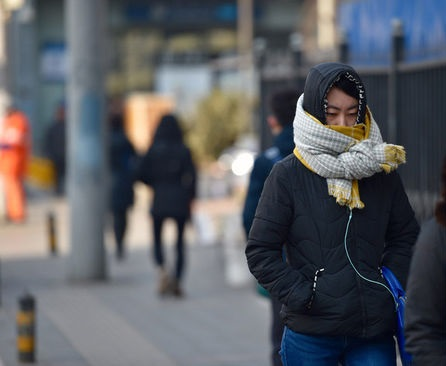face_mask: (321, 87, 361, 141)
